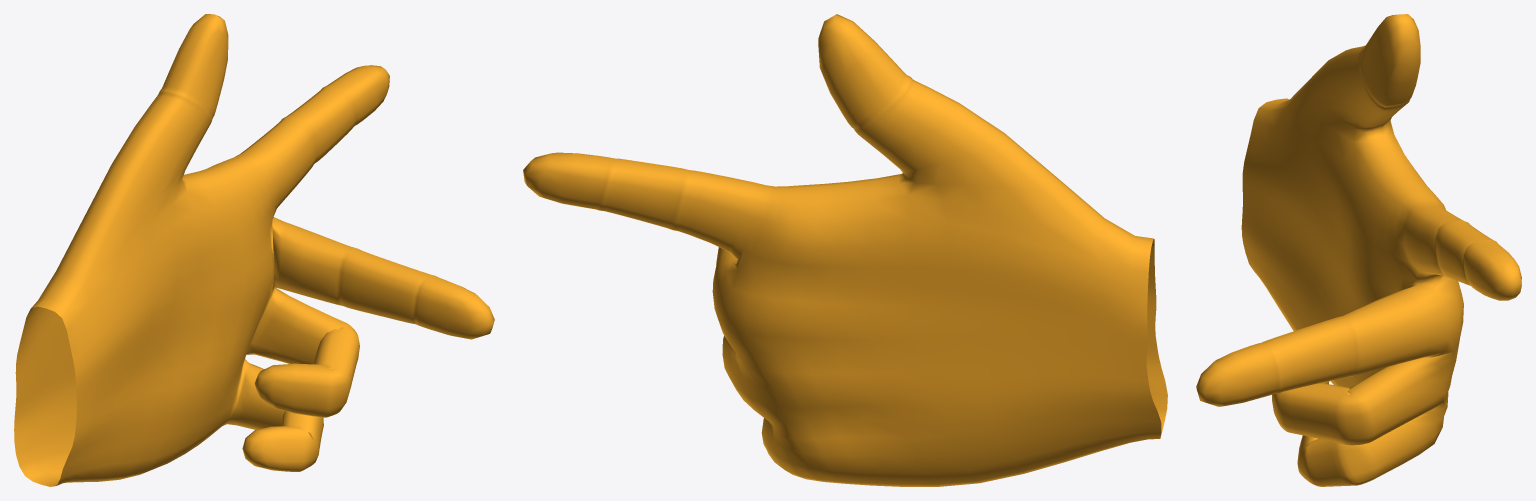
Rendered from hand.fbx.
The picture shows the model from 3 angles, left to right: view 1: azimuth 30°, elevation 25°; view 2: azimuth 150°, elevation 25°; view 3: azimuth 270°, elevation 25°; orthographic projection. The views are drawn at different scales.
Visible parts, largest first — view 1: Cube; view 2: Cube; view 3: Cube.
Boxes of the visible parts, box(x1,y1,x2,y2) form: Cube: box(14, 14, 494, 486); Cube: box(523, 14, 1167, 486); Cube: box(1196, 14, 1521, 486).
Size of the model in its own units: 36.57 by 32.2 by 21.31.
